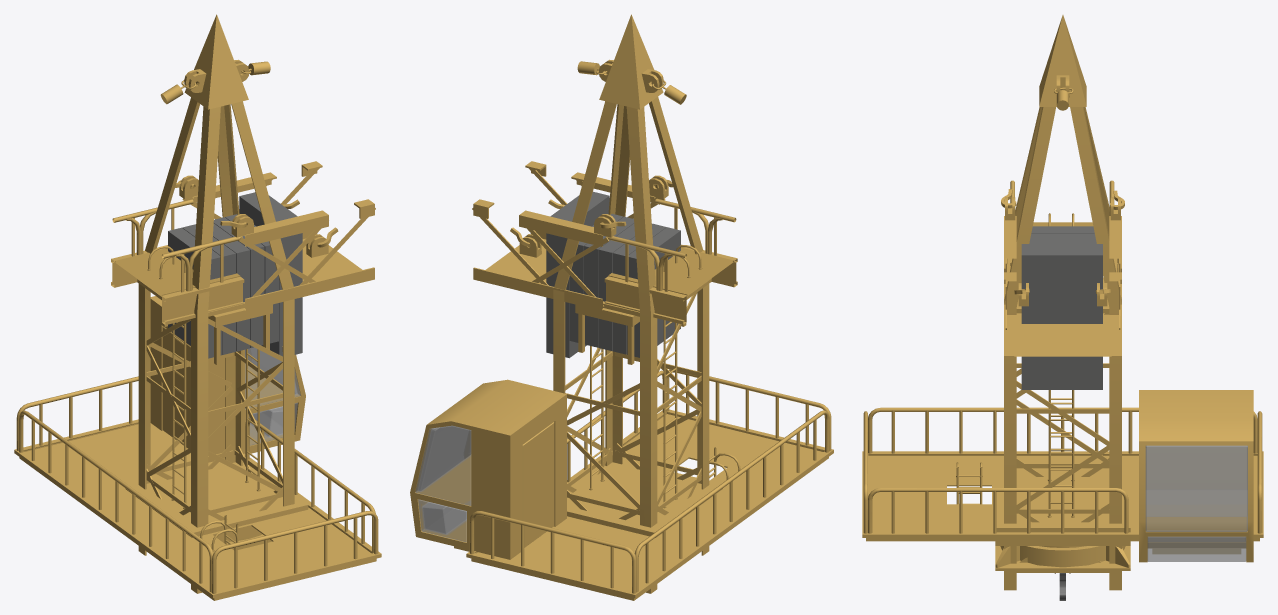
Rendered from tower_crane_kit.glb.
3 renders of one model, left to right at view 1: azimuth 30°, elevation 25°; view 2: azimuth 150°, elevation 25°; view 3: azimuth 270°, elevation 25°, orthographic.
Parts seen in each view (by area): view 1: slewing, head, counterweight, cjib_section, jib_root, jib_b, jib_a, cjib_end, cjib_root, trolley, mast_a, jib_lug (+2 smaller); view 2: slewing, head, counterweight, cjib_section, jib_root, jib_a, cjib_root, cjib_end, jib_b, trolley, jib_tip, jib_lug (+3 smaller); view 3: slewing, head, counterweight, jib_root, jib_a, jib_tip, base, mast_a, jib_b, jib_lug, cjib_section.
Part boxes in pixels (x1=…): slewing: x1=14, y1=296, x2=381, y2=600; head: x1=138, y1=14, x2=294, y2=523; counterweight: x1=168, y1=192, x2=302, y2=358; cjib_section: x1=111, y1=200, x2=244, y2=324; jib_root: x1=281, y1=161, x2=375, y2=299; jib_b: x1=182, y1=177, x2=328, y2=310; jib_a: x1=194, y1=172, x2=328, y2=310; cjib_end: x1=137, y1=199, x2=243, y2=318; cjib_root: x1=124, y1=218, x2=198, y2=321; trolley: x1=162, y1=304, x2=272, y2=364; mast_a: x1=138, y1=444, x2=293, y2=549; jib_lug: x1=175, y1=175, x2=253, y2=237; slewing: x1=410, y1=369, x2=833, y2=600; head: x1=553, y1=14, x2=709, y2=527; counterweight: x1=546, y1=191, x2=680, y2=358; cjib_section: x1=604, y1=198, x2=737, y2=324; jib_root: x1=472, y1=161, x2=567, y2=298; jib_a: x1=519, y1=172, x2=655, y2=310; cjib_root: x1=649, y1=217, x2=724, y2=317; cjib_end: x1=605, y1=199, x2=711, y2=317; jib_b: x1=519, y1=173, x2=665, y2=310; trolley: x1=575, y1=304, x2=686, y2=364; jib_tip: x1=514, y1=196, x2=662, y2=309; jib_lug: x1=594, y1=175, x2=673, y2=237; slewing: x1=862, y1=390, x2=1263, y2=572; head: x1=1004, y1=15, x2=1121, y2=523; counterweight: x1=1021, y1=226, x2=1102, y2=389; jib_root: x1=1004, y1=272, x2=1121, y2=356; jib_a: x1=1004, y1=216, x2=1121, y2=331; jib_tip: x1=1004, y1=258, x2=1121, y2=334; base: x1=1004, y1=547, x2=1121, y2=590; mast_a: x1=956, y1=458, x2=1121, y2=573; jib_b: x1=1004, y1=216, x2=1121, y2=331; jib_lug: x1=1001, y1=189, x2=1124, y2=220; cjib_section: x1=1007, y1=180, x2=1117, y2=283.
Bounding box in the file's own units: 5.64 × 13.34 × 8.28.
